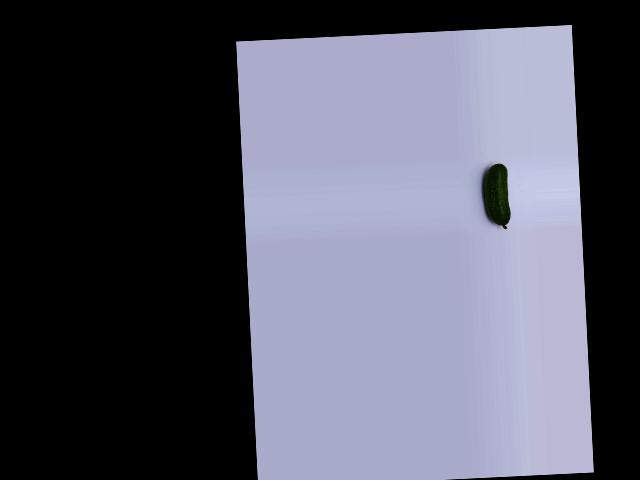cucumber: (482, 162, 510, 229)
